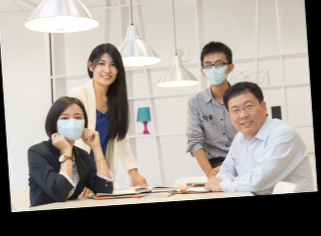with_mask: (55, 110, 85, 143), (201, 57, 231, 87)
without_mask: (227, 97, 263, 136), (92, 58, 116, 86)
